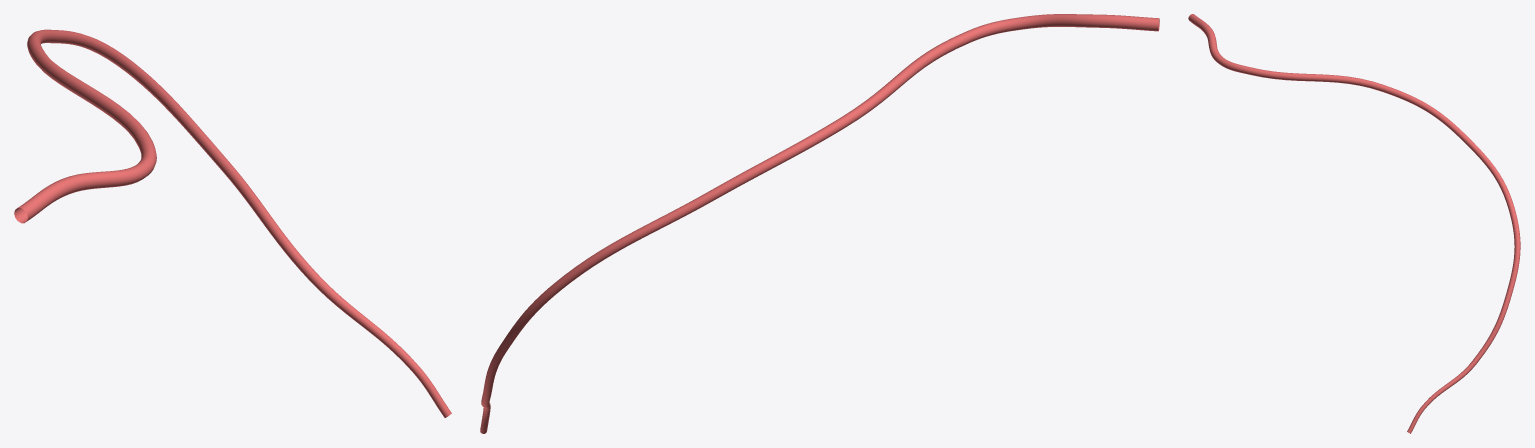
The model's file is Subcostal_artery.l_BezierCurve.388.glb.
3 renders of one model, left to right at view 1: azimuth 30°, elevation 25°; view 2: azimuth 150°, elevation 25°; view 3: azimuth 270°, elevation 25°, orthographic. The views are drawn at different scales.
Visible parts, largest first — view 1: Subcostal_artery.l_BezierCurve.388; view 2: Subcostal_artery.l_BezierCurve.388; view 3: Subcostal_artery.l_BezierCurve.388.
Part boxes in pixels (bbox=[...]): Subcostal_artery.l_BezierCurve.388: bbox=[14, 29, 451, 417]; Subcostal_artery.l_BezierCurve.388: bbox=[480, 14, 1159, 433]; Subcostal_artery.l_BezierCurve.388: bbox=[1188, 14, 1520, 433].
Bounding box in the file's own units: 0.0844 × 0.0655 × 0.0747.
